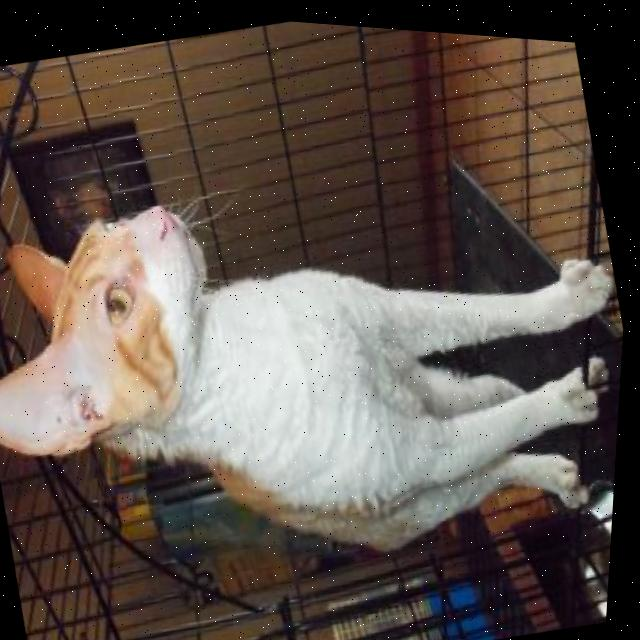Cornish Rex: (0, 81, 636, 640)
